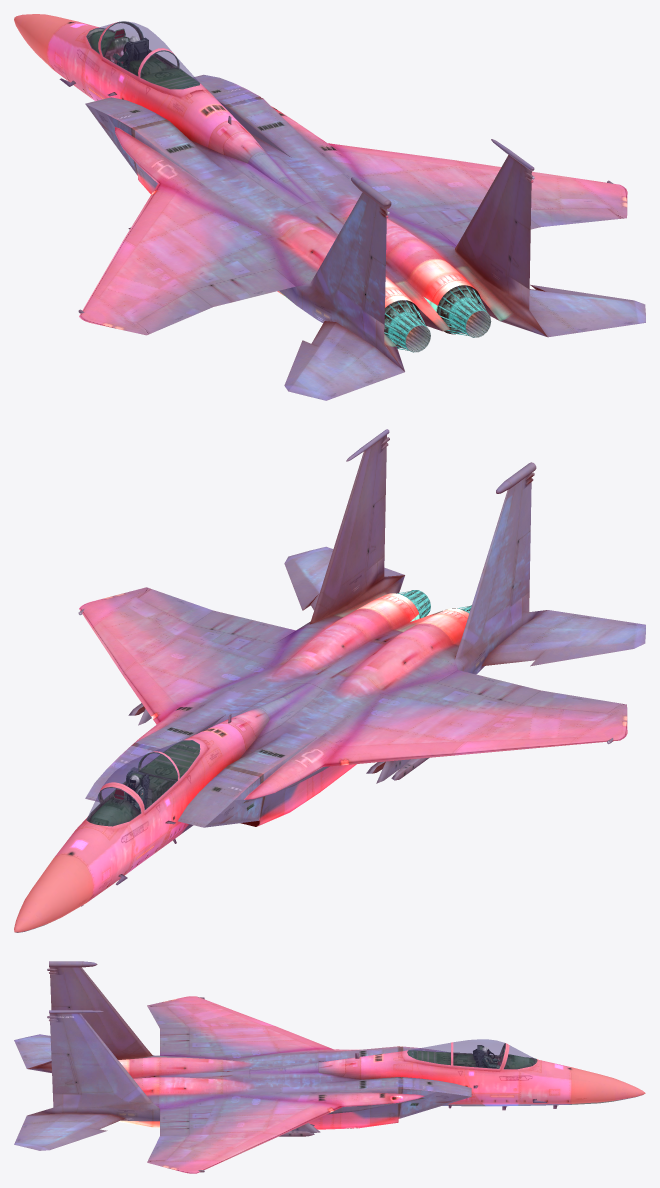
3 renders of one model, top to bottom at view 1: azimuth 30°, elevation 25°; view 2: azimuth 150°, elevation 25°; view 3: azimuth 270°, elevation 25°, orthographic. The views are drawn at different scales.
Parts seen in each view (by area): view 1: F-15C_Eagle_LOD0, F-15C_Eagle_ElevatorL01, F-15C_Eagle_ElevatorR01, F-15C_Eagle_Glass01, F-15C_Eagle_BrakeL01, F-15C_Eagle_EngineR01, F-15C_Eagle_IntakeL01, F-15C_Eagle_Canopy01, F-15C_Eagle_RudderR01, F-15C_Eagle_RudderL01, F-15C_Eagle_FlapL01, F-15C_Eagle_EngineL01 (+3 smaller); view 2: F-15C_Eagle_LOD0, F-15C_Eagle_ElevatorL01, F-15C_Eagle_Glass01, F-15C_Eagle_IntakeL01, F-15C_Eagle_Canopy01, F-15C_Eagle_BrakeL01, F-15C_Eagle_ElevatorR01, F-15C_Eagle_RudderL01, F-15C_Eagle_RudderR01, F-15C_Eagle_FlapL01, F-15C_Eagle_FlapR01, F-15C_Eagle_IntakeR01 (+2 smaller); view 3: F-15C_Eagle_LOD0, F-15C_Eagle_ElevatorR01, F-15C_Eagle_Glass01, F-15C_Eagle_IntakeR01, F-15C_Eagle_RudderR01, F-15C_Eagle_BrakeL01, F-15C_Eagle_Canopy01, F-15C_Eagle_ElevatorL01, F-15C_Eagle_FlapR01, F-15C_Eagle_FlapL01, F-15C_Eagle_RudderL01, F-15C_Eagle_AileronR01 (+1 smaller).
Boxes of the visible parts, x1=… form: F-15C_Eagle_LOD0: x1=14, y1=14, x2=627, y2=371; F-15C_Eagle_ElevatorL01: x1=284, y1=321, x2=404, y2=400; F-15C_Eagle_ElevatorR01: x1=529, y1=284, x2=645, y2=337; F-15C_Eagle_Glass01: x1=86, y1=21, x2=199, y2=88; F-15C_Eagle_BrakeL01: x1=220, y1=125, x2=323, y2=207; F-15C_Eagle_EngineR01: x1=436, y1=285, x2=491, y2=337; F-15C_Eagle_IntakeL01: x1=85, y1=97, x2=167, y2=175; F-15C_Eagle_Canopy01: x1=99, y1=21, x2=207, y2=97; F-15C_Eagle_RudderR01: x1=506, y1=177, x2=531, y2=289; F-15C_Eagle_RudderL01: x1=361, y1=212, x2=386, y2=324; F-15C_Eagle_FlapL01: x1=193, y1=269, x2=295, y2=306; F-15C_Eagle_EngineL01: x1=384, y1=300, x2=430, y2=352; F-15C_Eagle_LOD0: x1=14, y1=429, x2=627, y2=932; F-15C_Eagle_ElevatorL01: x1=482, y1=610, x2=645, y2=666; F-15C_Eagle_Glass01: x1=86, y1=740, x2=199, y2=826; F-15C_Eagle_IntakeL01: x1=178, y1=767, x2=263, y2=827; F-15C_Eagle_Canopy01: x1=100, y1=737, x2=208, y2=815; F-15C_Eagle_BrakeL01: x1=221, y1=683, x2=323, y2=737; F-15C_Eagle_ElevatorR01: x1=284, y1=546, x2=404, y2=610; F-15C_Eagle_RudderL01: x1=509, y1=483, x2=531, y2=606; F-15C_Eagle_RudderR01: x1=365, y1=448, x2=386, y2=571; F-15C_Eagle_FlapL01: x1=438, y1=670, x2=540, y2=704; F-15C_Eagle_FlapR01: x1=193, y1=610, x2=295, y2=642; F-15C_Eagle_IntakeR01: x1=85, y1=744, x2=162, y2=801; F-15C_Eagle_LOD0: x1=27, y1=961, x2=645, y2=1173; F-15C_Eagle_ElevatorR01: x1=14, y1=1113, x2=124, y2=1150; F-15C_Eagle_Glass01: x1=407, y1=1039, x2=536, y2=1068; F-15C_Eagle_IntakeR01: x1=399, y1=1077, x2=471, y2=1118; F-15C_Eagle_RudderR01: x1=50, y1=1022, x2=81, y2=1094; F-15C_Eagle_BrakeL01: x1=250, y1=1059, x2=355, y2=1078; F-15C_Eagle_Canopy01: x1=398, y1=1042, x2=507, y2=1071; F-15C_Eagle_ElevatorL01: x1=14, y1=1034, x2=51, y2=1068; F-15C_Eagle_FlapR01: x1=160, y1=1107, x2=187, y2=1135; F-15C_Eagle_FlapL01: x1=160, y1=1028, x2=187, y2=1055; F-15C_Eagle_RudderL01: x1=50, y1=975, x2=72, y2=1010; F-15C_Eagle_AileronR01: x1=148, y1=1135, x2=186, y2=1160.
Bounding box in the file's own units: 1293 × 435 × 1947.
